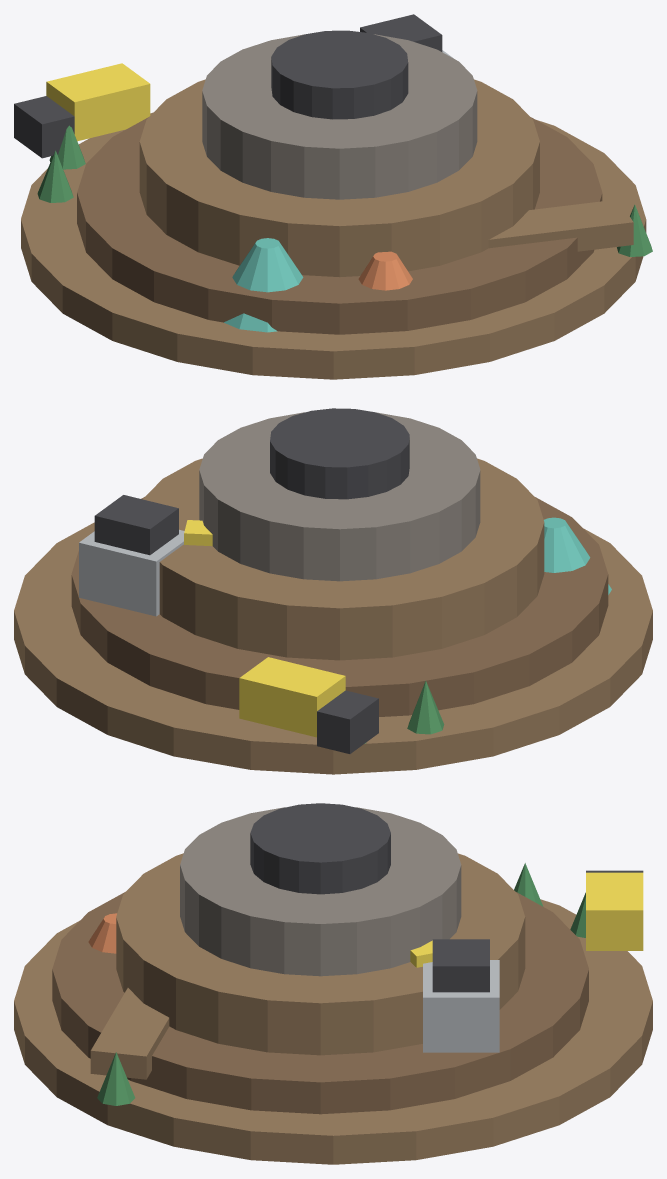
File: mine.glb
3 renders of one model, top to bottom at view 1: azimuth 30°, elevation 25°; view 2: azimuth 150°, elevation 25°; view 3: azimuth 270°, elevation 25°, orthographic. The views are drawn at different scales.
Parts seen in each view (by area): view 1: mine_bench_1, mine_base, mine_bench_0, mine_bench_2, mine_pit, mine_truck_bed, mine_ramp, mine_pile_cu, mine_truck_cab, mine_crusher_top, mine_pile_fe, mine_tree_0 (+2 smaller); view 2: mine_base, mine_bench_1, mine_bench_0, mine_bench_2, mine_pit, mine_truck_bed, mine_crusher, mine_crusher_top, mine_truck_cab, mine_pile_cu, mine_tree_0, mine_belt; view 3: mine_base, mine_bench_0, mine_bench_1, mine_bench_2, mine_pit, mine_crusher, mine_truck_bed, mine_ramp, mine_crusher_top, mine_tree_2, mine_pile_fe, mine_tree_0.
Part boxes in pixels (bbox=[...]): mine_bench_1: bbox=[139, 79, 539, 277]; mine_base: bbox=[21, 112, 646, 379]; mine_bench_0: bbox=[77, 117, 602, 334]; mine_bench_2: bbox=[202, 34, 477, 199]; mine_pit: bbox=[271, 30, 408, 119]; mine_truck_bed: bbox=[46, 63, 150, 141]; mine_ramp: bbox=[488, 199, 633, 251]; mine_pile_cu: bbox=[224, 238, 303, 332]; mine_truck_cab: bbox=[14, 96, 74, 158]; mine_crusher_top: bbox=[360, 14, 442, 51]; mine_pile_fe: bbox=[358, 251, 412, 290]; mine_tree_0: bbox=[37, 150, 73, 202]; mine_base: bbox=[14, 522, 652, 774]; mine_bench_1: bbox=[143, 458, 544, 660]; mine_bench_0: bbox=[71, 497, 608, 716]; mine_bench_2: bbox=[199, 412, 480, 581]; mine_pit: bbox=[270, 408, 409, 499]; mine_truck_bed: bbox=[239, 657, 345, 737]; mine_crusher: bbox=[79, 529, 184, 616]; mine_crusher_top: bbox=[94, 495, 178, 555]; mine_truck_cab: bbox=[317, 690, 378, 753]; mine_pile_cu: bbox=[544, 517, 611, 594]; mine_tree_0: bbox=[407, 680, 444, 734]; mine_belt: bbox=[184, 520, 212, 546]; mine_base: bbox=[14, 899, 652, 1164]; mine_bench_0: bbox=[52, 892, 588, 1114]; mine_bench_1: bbox=[116, 853, 525, 1055]; mine_bench_2: bbox=[180, 807, 461, 976]; mine_pit: bbox=[250, 803, 390, 894]; mine_crusher: bbox=[423, 960, 499, 1052]; mine_truck_bed: bbox=[586, 872, 643, 950]; mine_ramp: bbox=[90, 988, 169, 1079]; mine_crusher_top: bbox=[432, 939, 489, 992]; mine_tree_2: bbox=[97, 1052, 135, 1105]; mine_pile_fe: bbox=[88, 913, 116, 953]; mine_tree_0: bbox=[514, 863, 543, 906].
Bounding box in the file's own units: 1 × 0.34 × 1.
